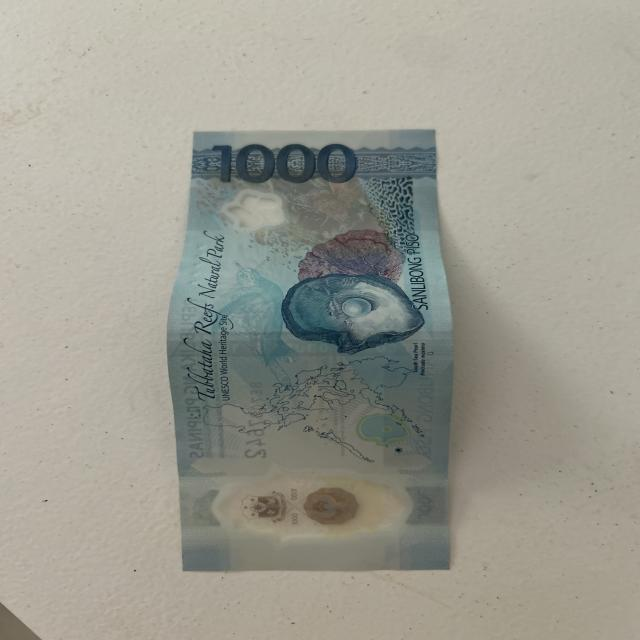clear_window: (180, 462, 458, 548)
sampaguita: (220, 191, 289, 236)
security_thread: (168, 334, 457, 356)
value: (209, 140, 359, 190)
